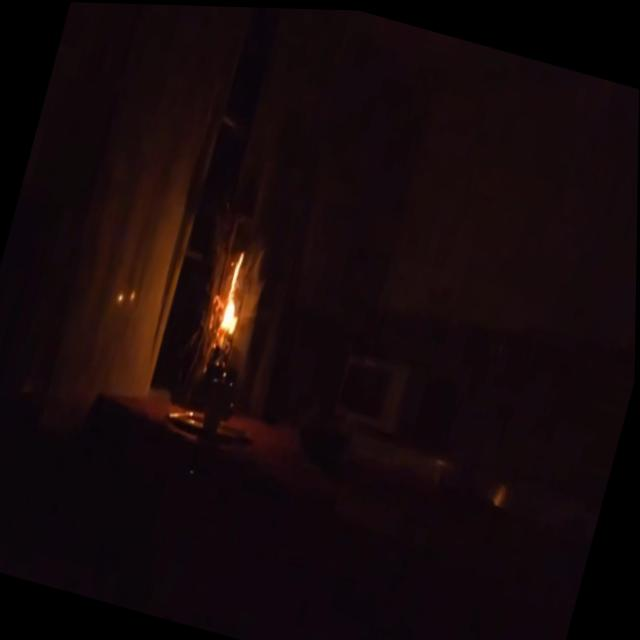fire: (209, 232, 265, 342)
